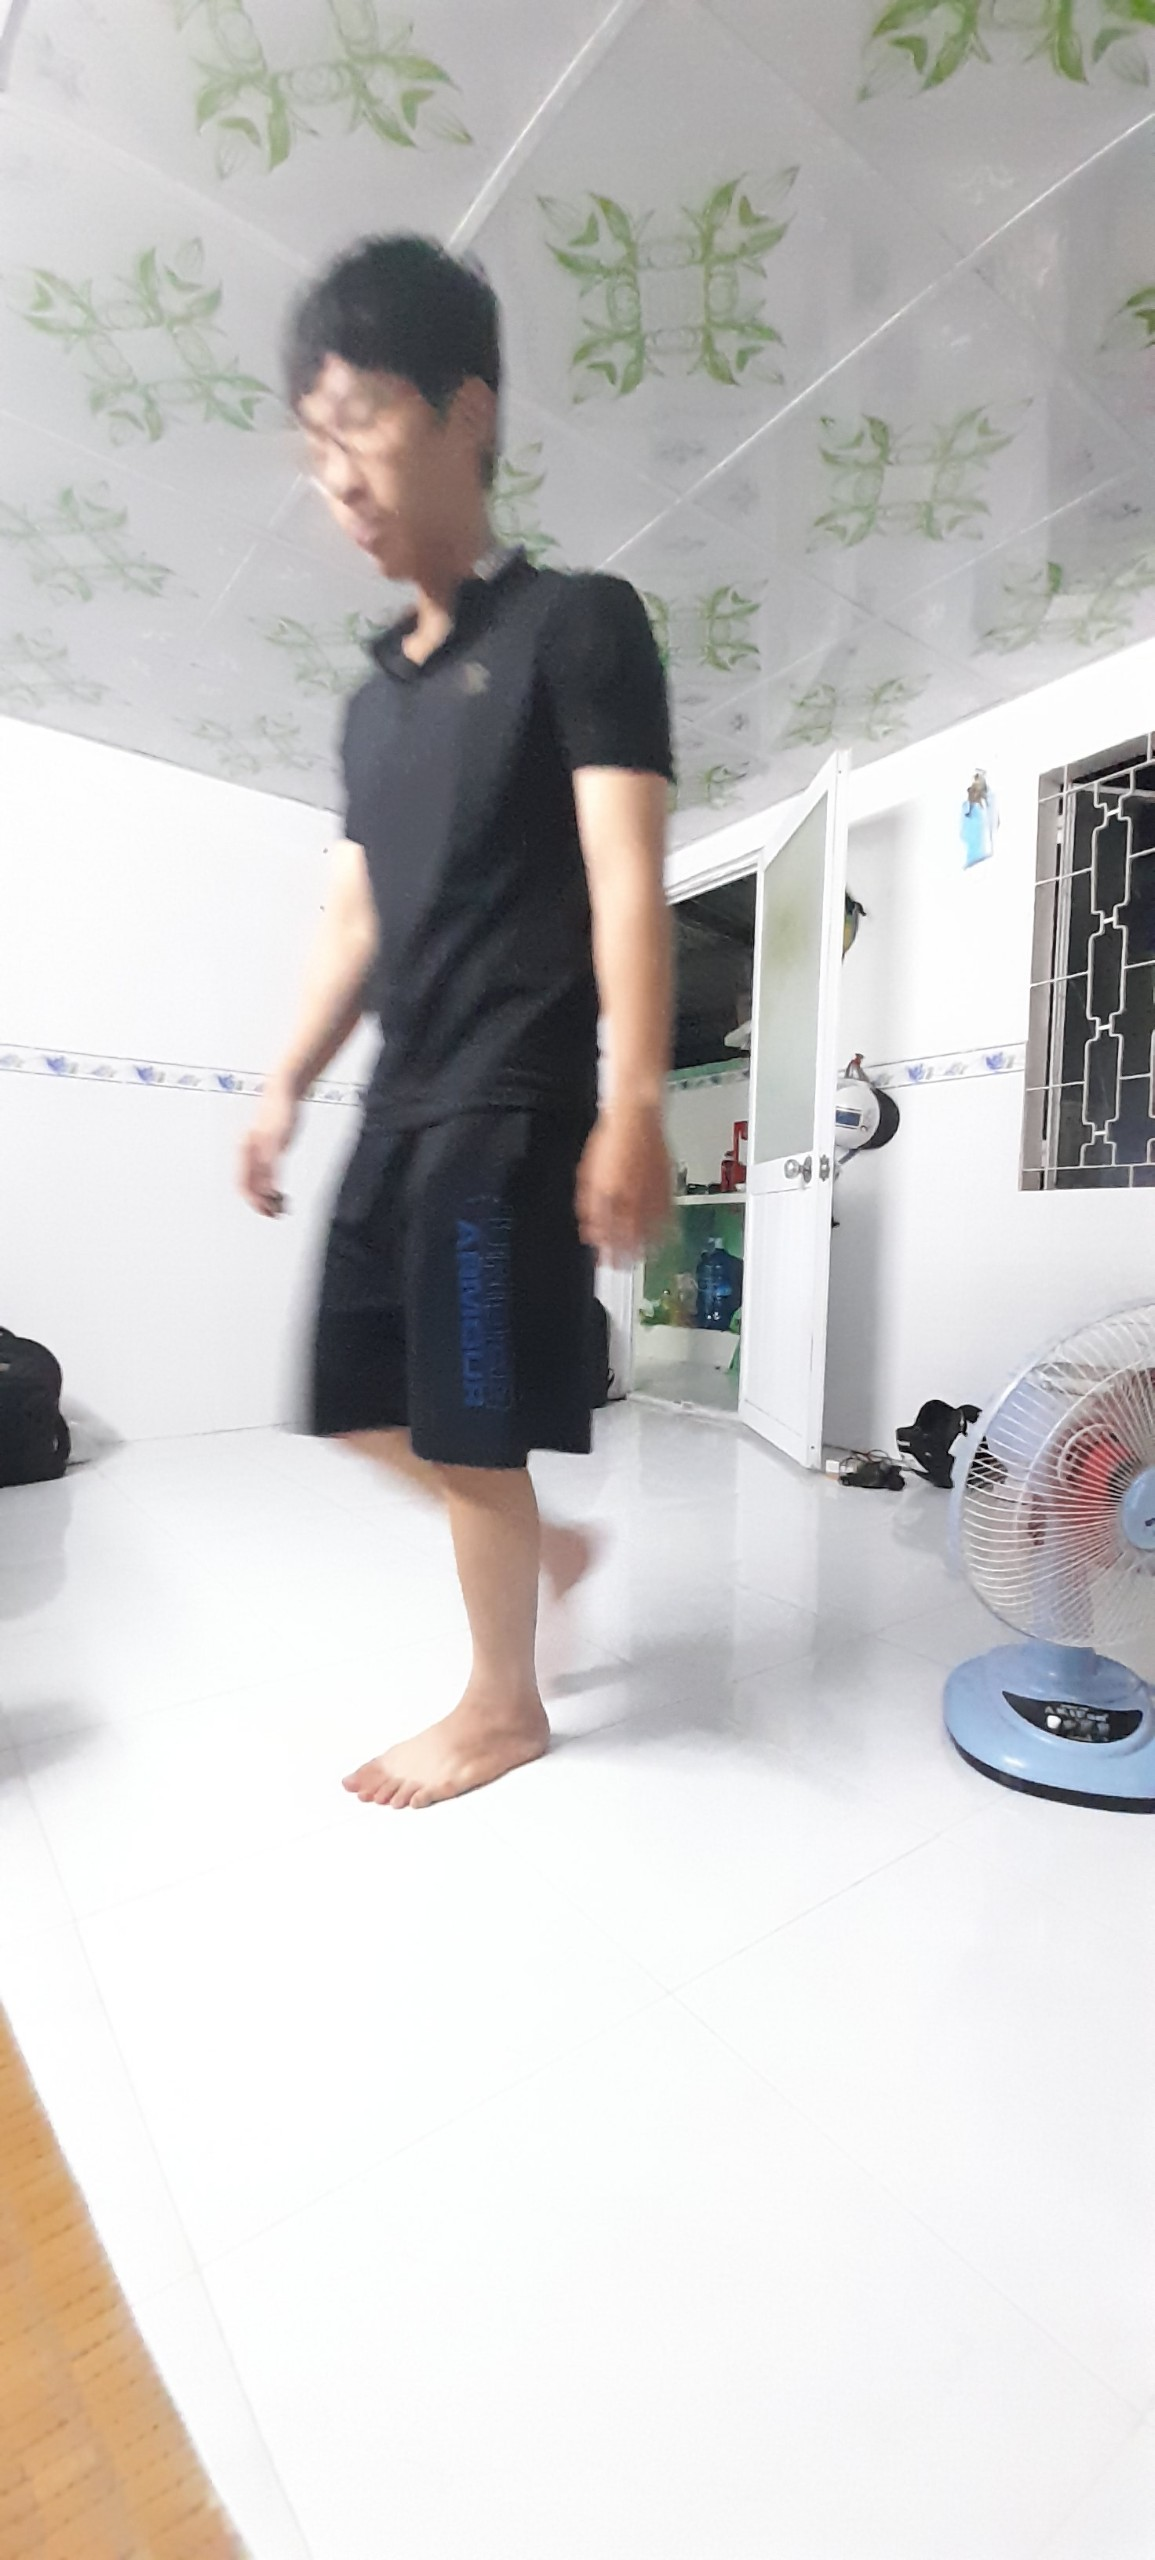person: (257, 244, 692, 1812)
